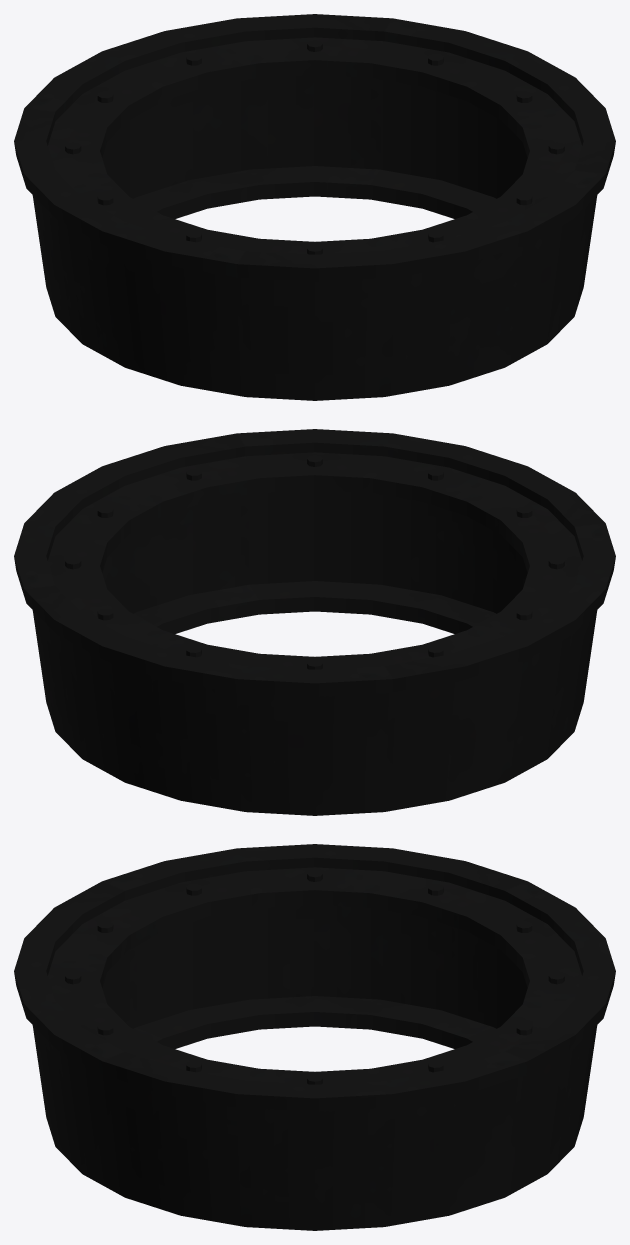
The model's file is interstage.fbx.
3 views of the same model, one above another, from view 1: azimuth 30°, elevation 25°; view 2: azimuth 150°, elevation 25°; view 3: azimuth 270°, elevation 25° (orthographic).
Parts seen in each view (by area): view 1: mesh; view 2: mesh; view 3: mesh.
Part boxes in pixels (x1,y1,x2,y2): mesh: (14,14,615,400); mesh: (14,429,615,815); mesh: (14,844,615,1230).
Size of what is drawn, in the model's own units: 1.4 by 0.375 by 1.4.
